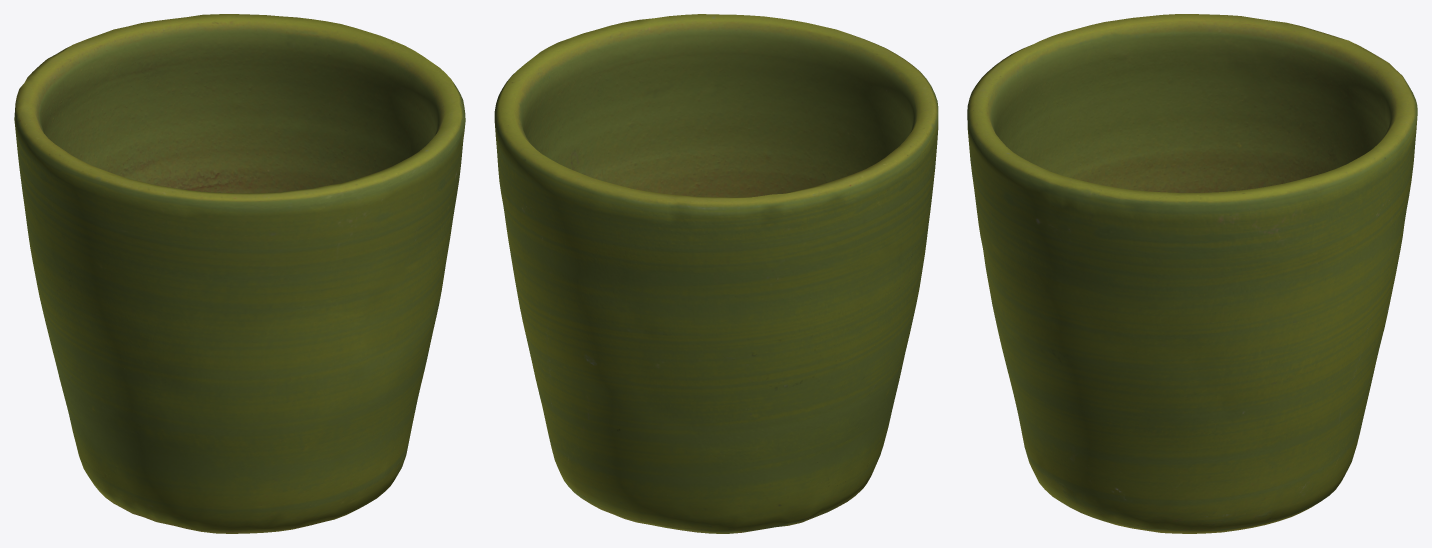
3 views of the same model, side by side, from view 1: azimuth 30°, elevation 25°; view 2: azimuth 150°, elevation 25°; view 3: azimuth 270°, elevation 25° (orthographic).
Visible parts, largest first — view 1: Aset_clay_pot_S_ueohdcwjw_LOD0; view 2: Aset_clay_pot_S_ueohdcwjw_LOD0; view 3: Aset_clay_pot_S_ueohdcwjw_LOD0.
Part boxes in pixels (<box>): Aset_clay_pot_S_ueohdcwjw_LOD0: <box>14,14,465,533</box>; Aset_clay_pot_S_ueohdcwjw_LOD0: <box>494,14,938,533</box>; Aset_clay_pot_S_ueohdcwjw_LOD0: <box>967,14,1417,533</box>.
Bounding box in the file's own units: 0.0399 × 0.0403 × 0.0371.
Materials: 1 (1 with a texture image).
